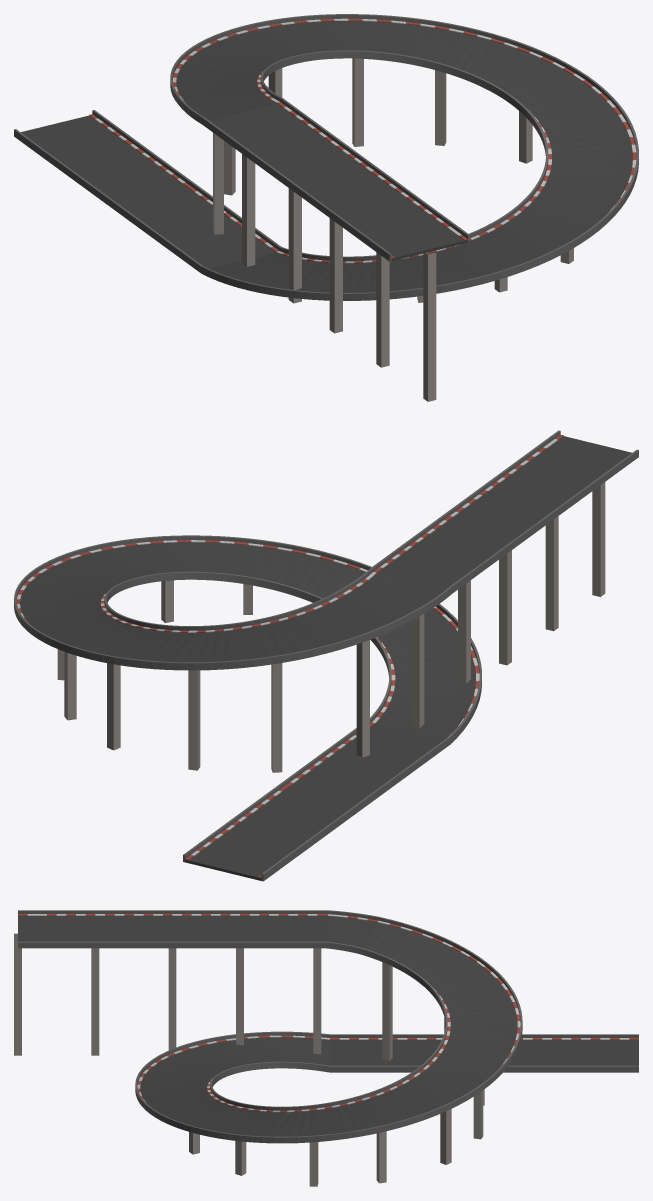
The model's file is tp-corkscrew-helix-right.glb.
3 renders of one model, top to bottom at view 1: azimuth 30°, elevation 25°; view 2: azimuth 150°, elevation 25°; view 3: azimuth 270°, elevation 25°, orthographic. The views are drawn at different scales.
Visible parts, largest first — view 1: tp-corkscrew-helix-right; view 2: tp-corkscrew-helix-right; view 3: tp-corkscrew-helix-right.
Boxes of the visible parts, box(x1,y1,x2,y2) form: tp-corkscrew-helix-right: box(14, 14, 638, 401); tp-corkscrew-helix-right: box(14, 430, 638, 881); tp-corkscrew-helix-right: box(14, 910, 638, 1186).
Size of what is drawn, in the model's own units: 77.89 by 28.78 by 126.
1 material, 1 textured.
